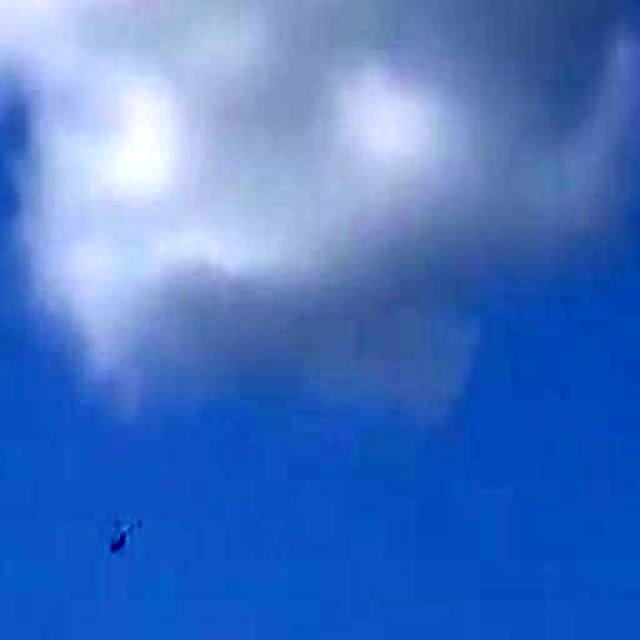drone: (72, 480, 174, 578)
